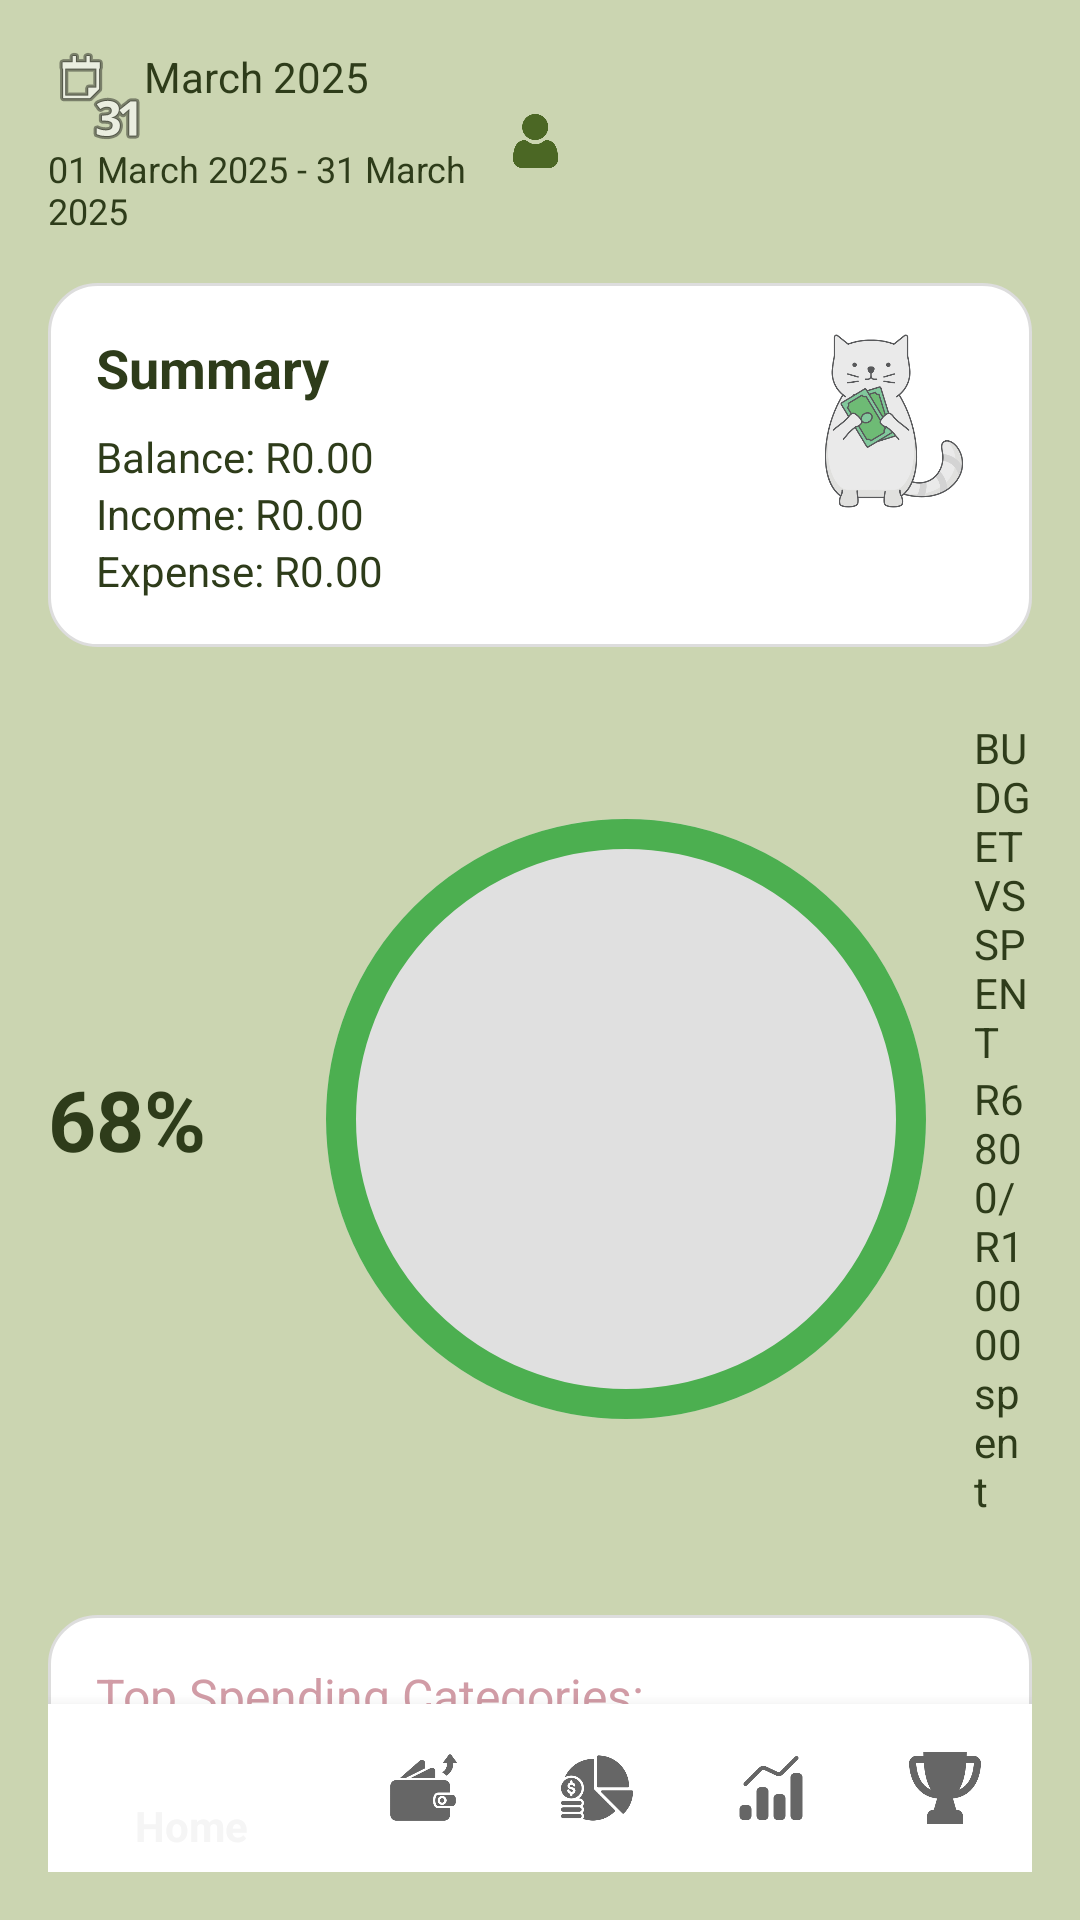

Locate icon controls on the screen. Image size 1080px x 1920px, boxes as [left=x1, top=y1, right=x2, bottom=y2].
profile: [left=513, top=114, right=558, bottom=168]
